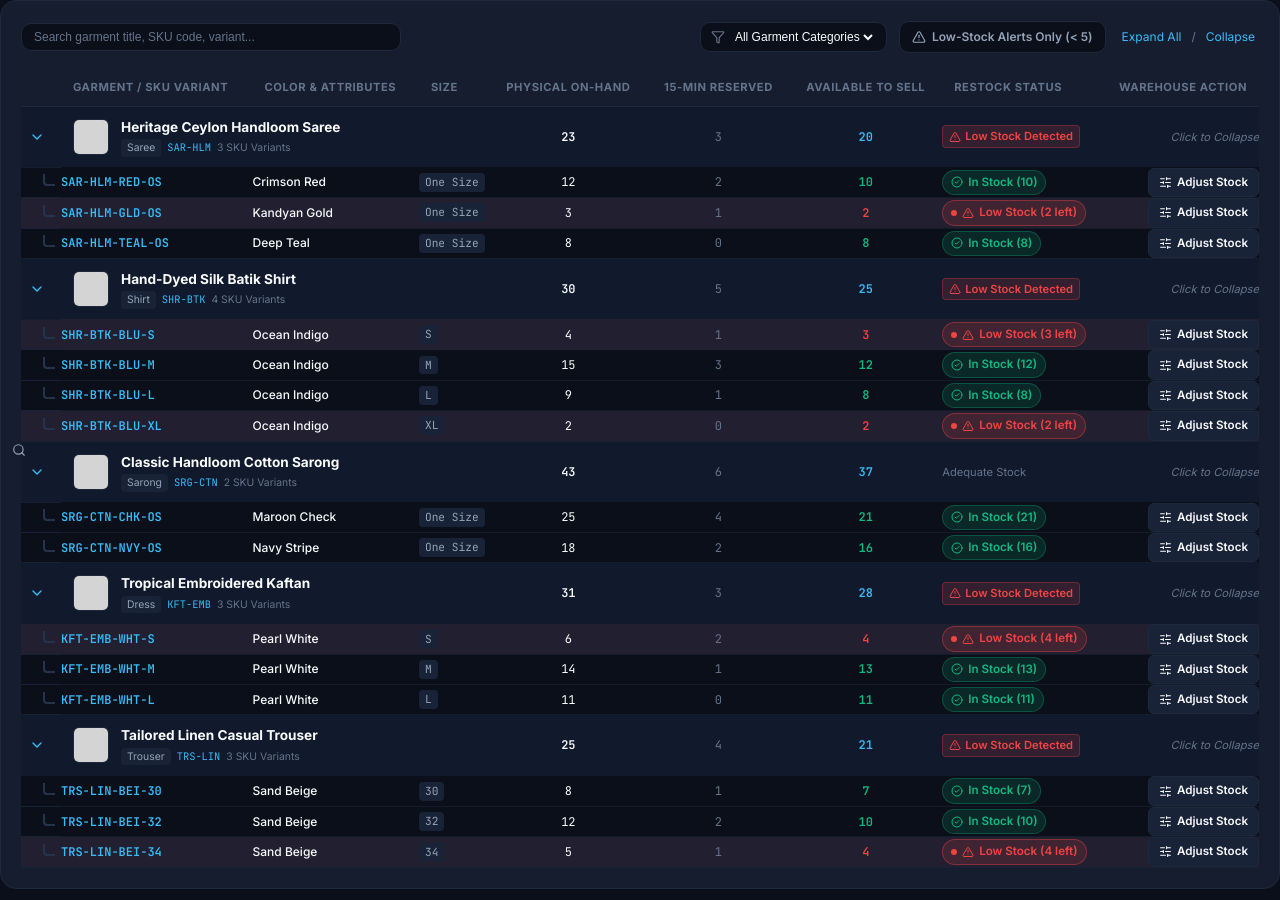
Test case: STORM-FE-018: Admin Inventory Restock Matrix, SKU Variant Stock Adjustment & Low-Stock Alerts › AC1: Inventory Table Hierarchical Grouping & SKU Variants › toggles expand/collapse on product click
Expected: the row with test id "variant-row-SAR-HLM-RED-OS" is shown, [21,167,1259,198]
Click to collapse
Click the row with test id "product-row-101" at (640, 137), box [21,106,1259,167]
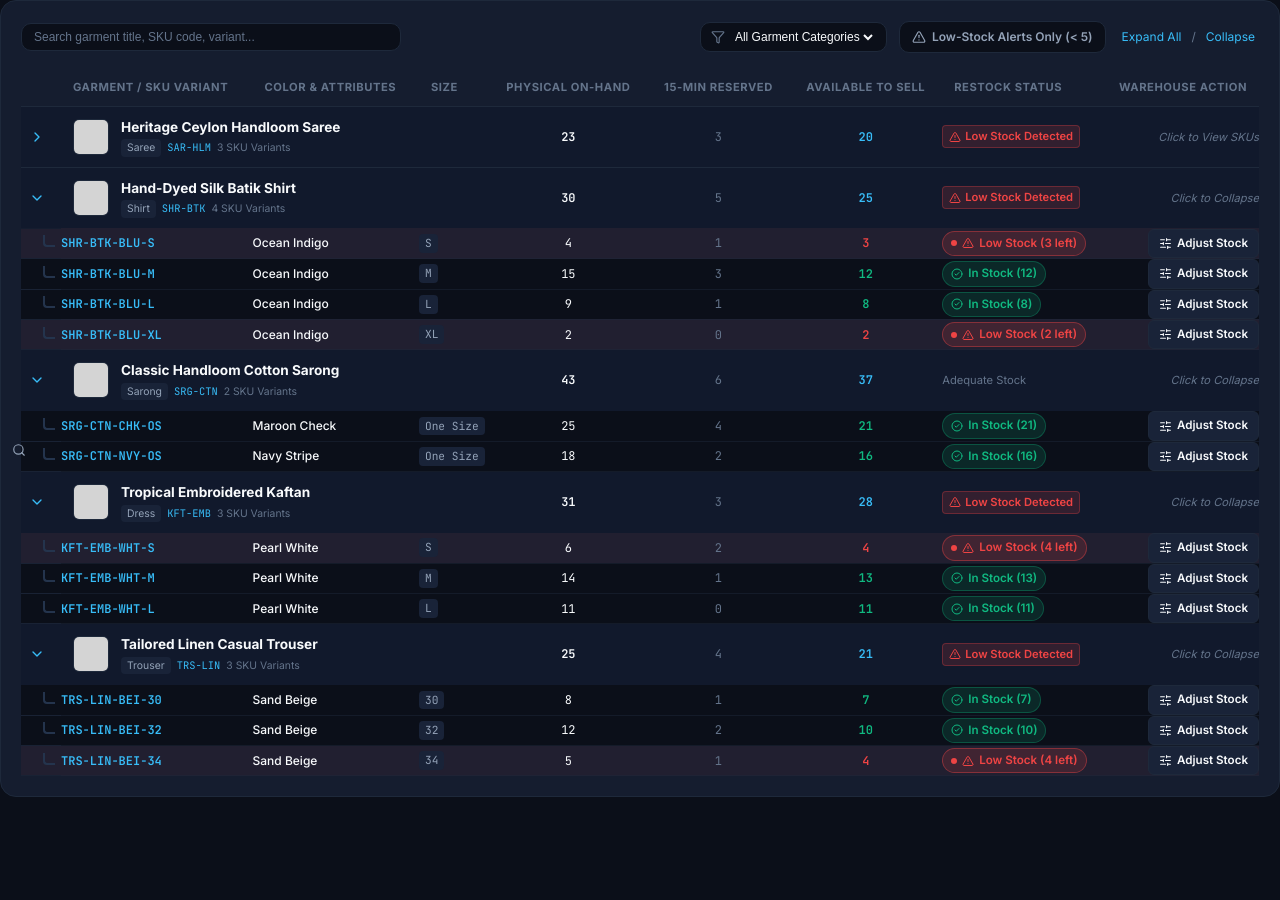
Expected: the row with test id "variant-row-SAR-HLM-RED-OS" is gone
Click to re-expand
Click the row with test id "product-row-101" at (640, 137), box [21,106,1259,167]
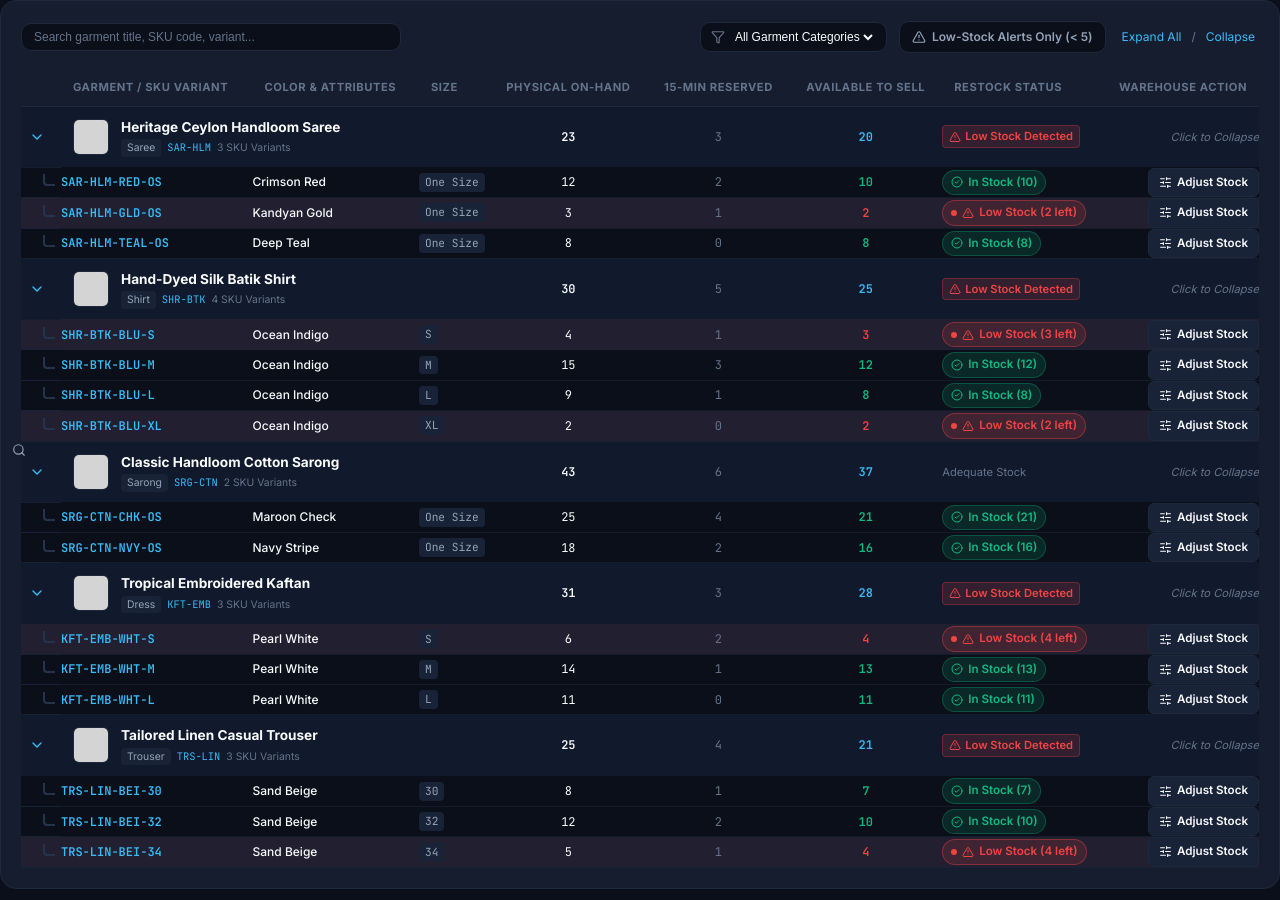
Expected: the row with test id "variant-row-SAR-HLM-RED-OS" is shown, [21,167,1259,198]
